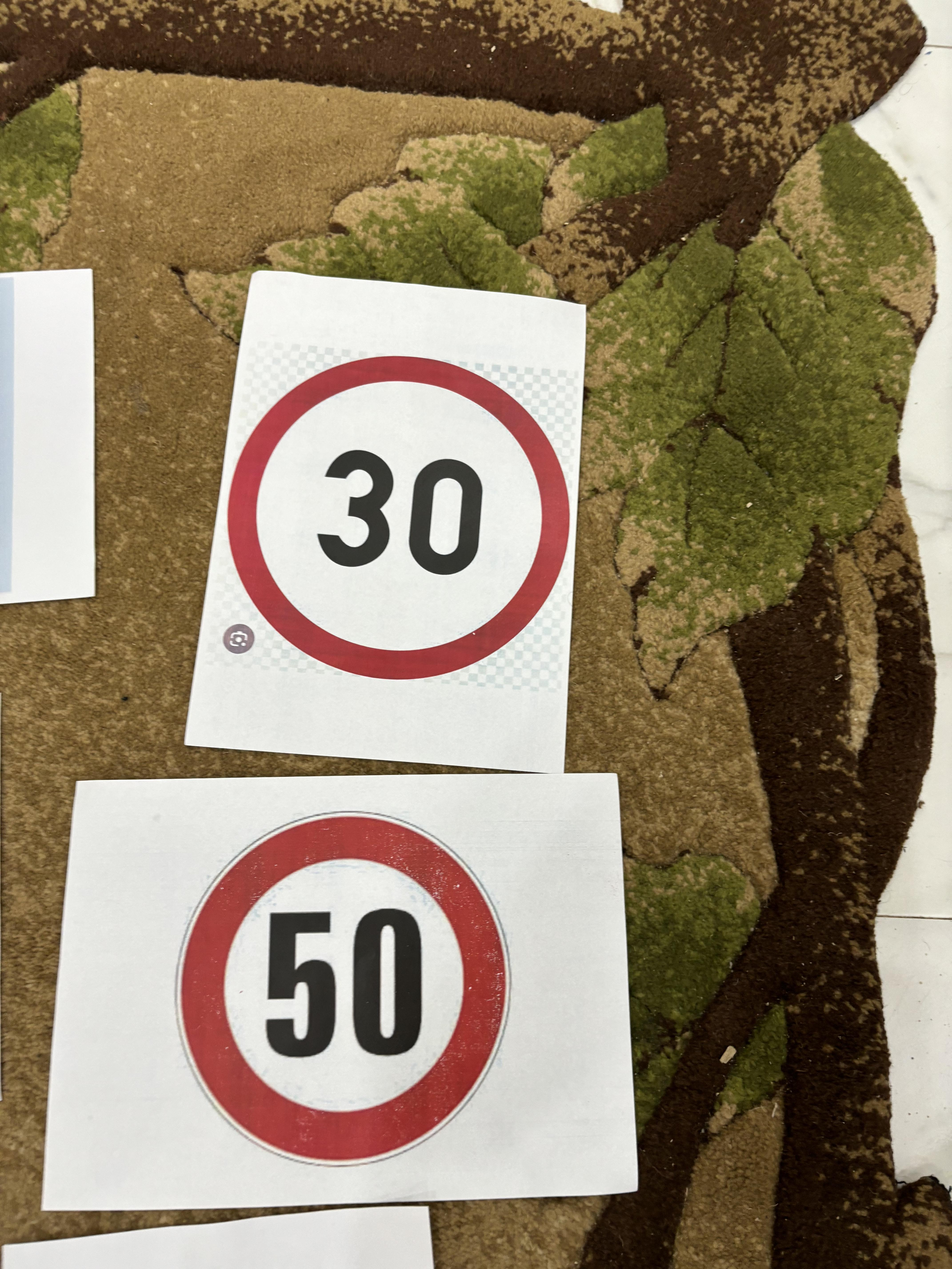30-speed: (234, 345, 571, 671)
50-Speed: (174, 805, 511, 1164)
